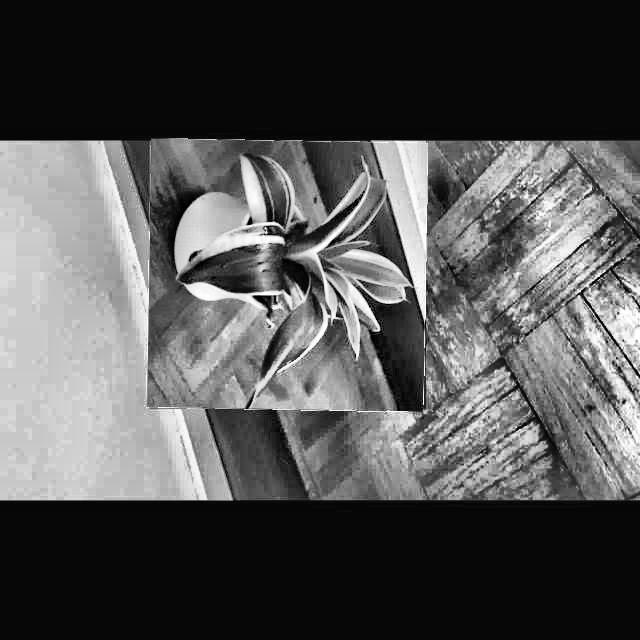plants: (148, 139, 427, 410)
